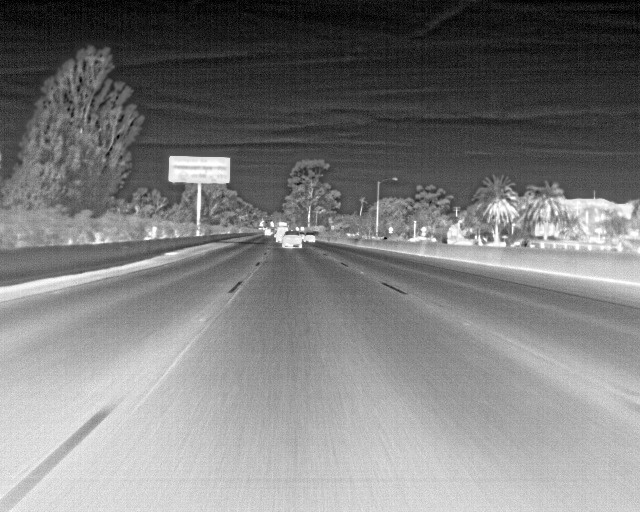vehicle: (283, 231, 301, 249)
